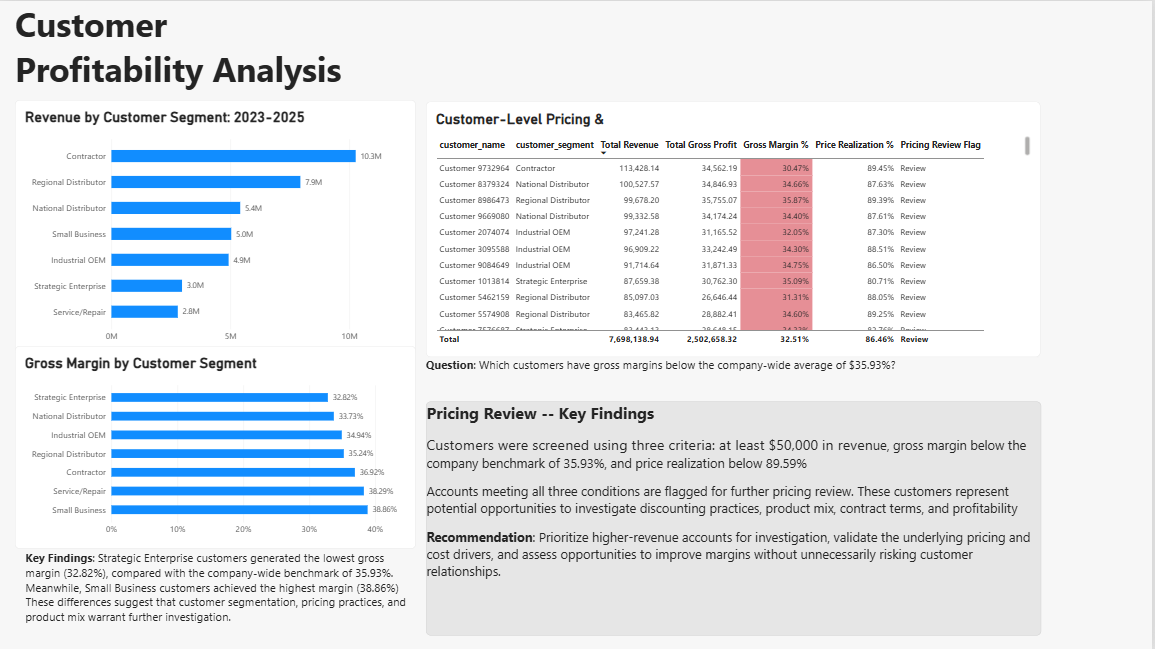

The page's visual inventory and layout, read from the dashboard file:
{"tool":"powerbi","page":{"name":"Customer Profitability","canvas":[1920,1080],"ordinal":2},"visuals":[{"type":"textbox","box":[24,0,578,166],"z":0},{"type":"clusteredBarChart","title":"Revenue by Customer Segment: 2023-2025","fields":{"Category":["customers.customer_segment"],"Y":["orders.Total Revenue"]},"box":[24,166,668,426],"z":1},{"type":"clusteredBarChart","title":"Gross Margin by Customer Segment","fields":{"Category":["customers.customer_segment"],"Y":["orders.Gross Margin %"]},"box":[24,576,668,338],"z":2},{"type":"textbox","box":[42,914,650,166],"z":3},{"type":"tableEx","title":"Customer-Level Pricing &","fields":{"Values":["customers.customer_name","customers.customer_segment","orders.Total Revenue","orders.Total Gross Profit","orders.Gross Margin %","orders.Price Realization %","cost_history.Pricing Review Flag"]},"box":[710,167.5,1024,426],"z":4},{"type":"textbox","box":[710,592.5,802,44],"z":5},{"type":"textbox","box":[710,667.5,1025,390],"z":6}]}

Visuals, with their boxes in screenshot pixels (x1, y1, x2, y2), scaled from the page's 1920x1080 canvas onto the 1155x649 screenshot:
textbox: [x1=14, y1=0, x2=362, y2=100]
"Revenue by Customer Segment: 2023-2025" clusteredBarChart: [x1=14, y1=100, x2=416, y2=356]
"Gross Margin by Customer Segment" clusteredBarChart: [x1=14, y1=346, x2=416, y2=549]
textbox: [x1=25, y1=549, x2=416, y2=648]
"Customer-Level Pricing &" tableEx: [x1=427, y1=101, x2=1043, y2=357]
textbox: [x1=427, y1=356, x2=910, y2=382]
textbox: [x1=427, y1=401, x2=1044, y2=635]
